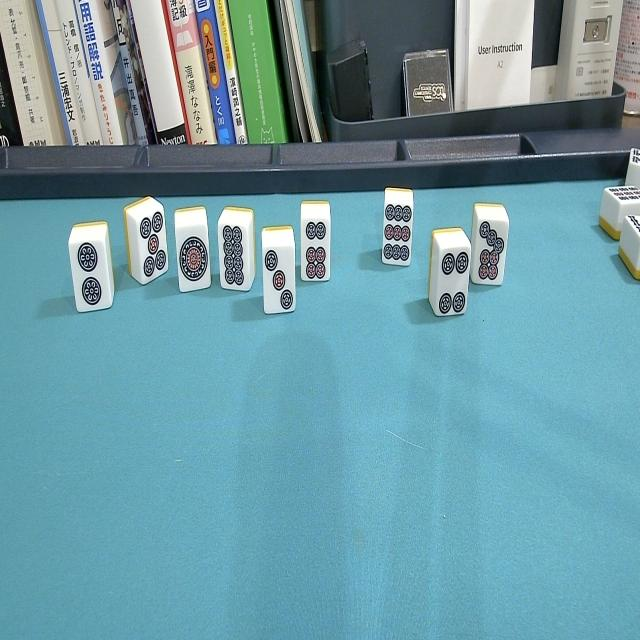1_pin: (173, 206, 212, 295)
2_pin: (69, 222, 115, 322)
3_pin: (260, 225, 298, 321)
4_pin: (427, 225, 473, 322)
5_pin: (122, 196, 170, 289)
6_pin: (299, 197, 333, 290)
7_pin: (470, 201, 510, 293)
8_pin: (218, 207, 256, 299)
9_pin: (379, 184, 414, 274)
